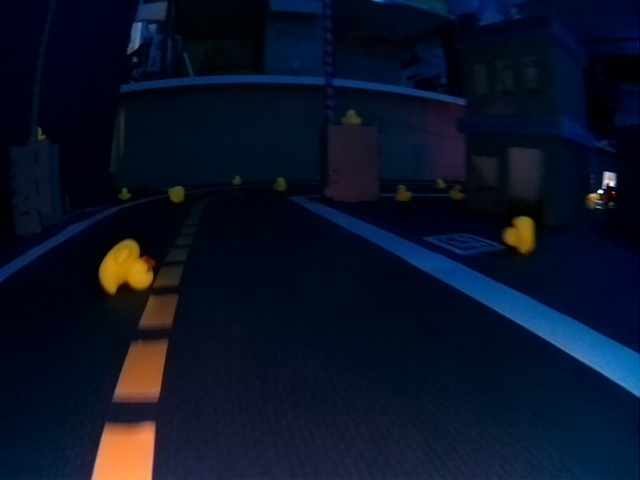Duckie: (101, 240, 151, 294), (505, 217, 536, 252), (341, 110, 358, 124), (169, 186, 183, 201), (449, 188, 465, 200), (395, 186, 407, 200), (274, 177, 284, 190), (119, 189, 132, 199), (436, 179, 445, 189), (587, 193, 596, 203), (37, 128, 46, 137), (232, 176, 240, 185)
QR code: (430, 233, 504, 256)
